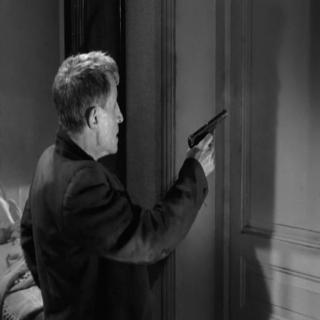gun: (181, 103, 234, 176)
